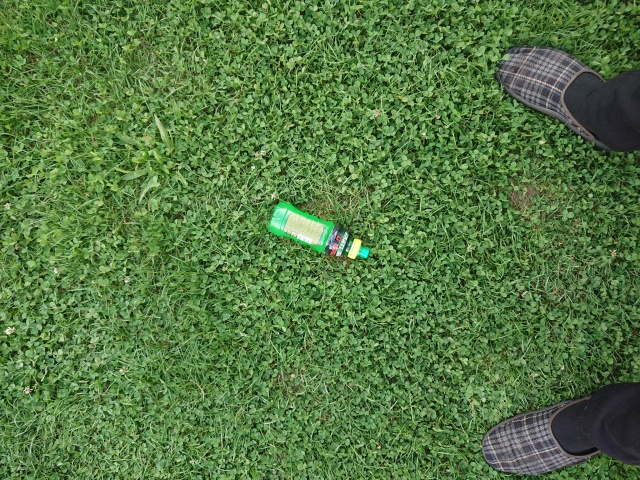Vindi Iso Sport Lemon-Grapefruit 500mL: (264, 199, 372, 263)
